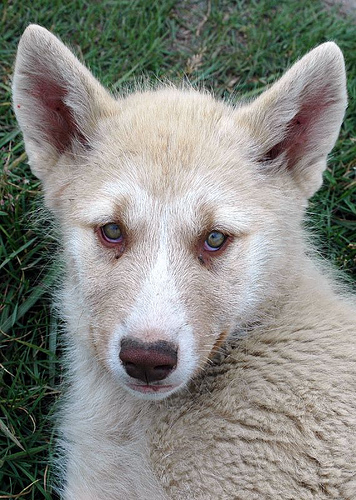dog: (10, 25, 354, 498)
